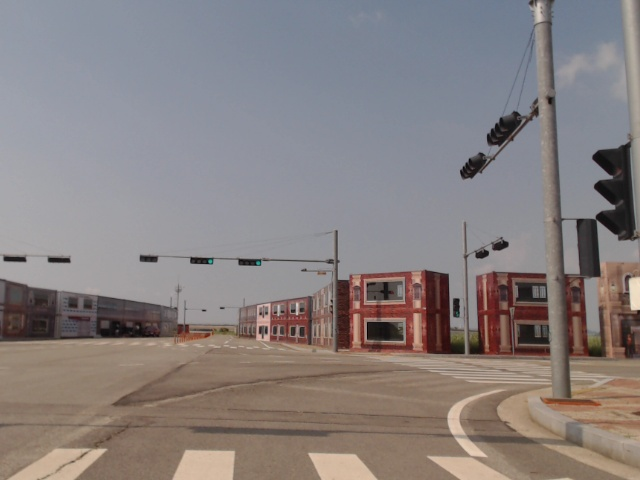straight_green_4: (237, 258, 262, 267), (191, 258, 214, 265)
